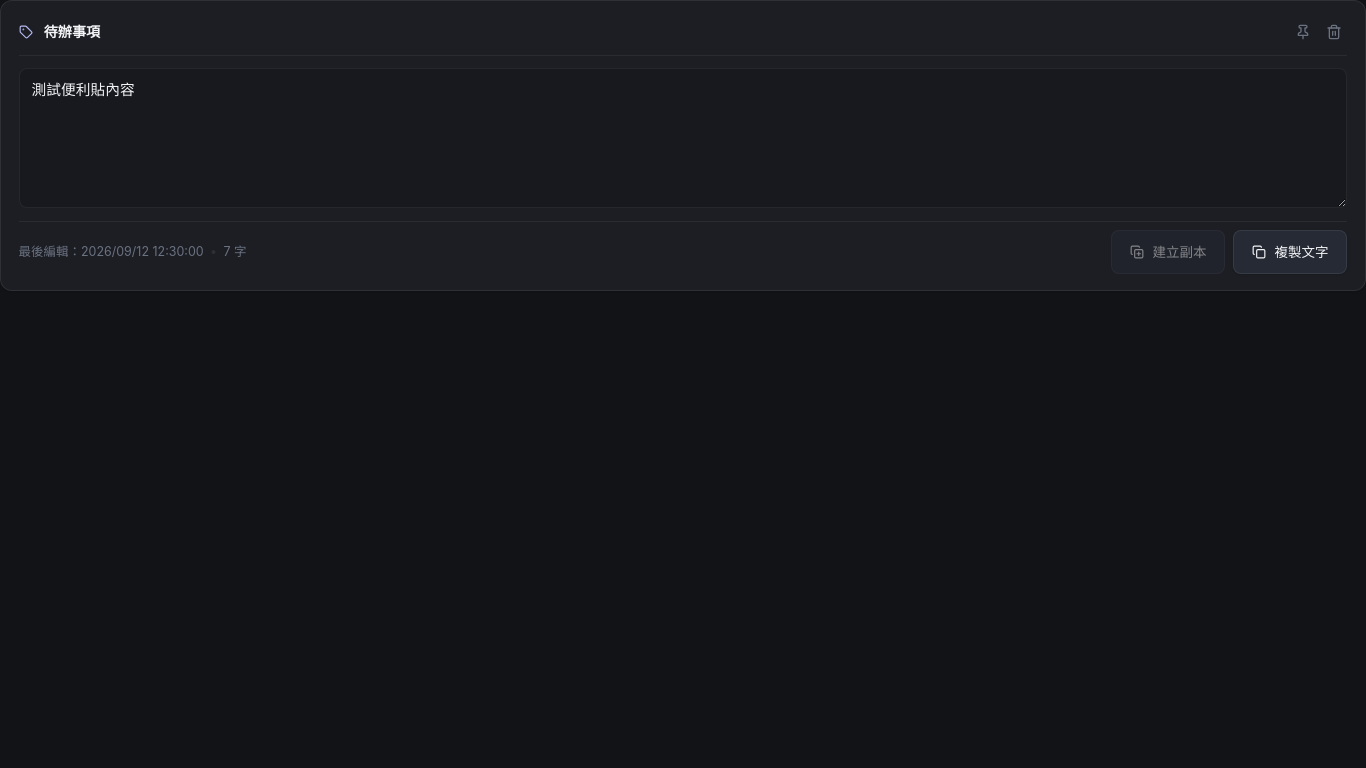
Test: StickyNoteCard › reconciles an ambiguous deletion without claiming success
Click the button named "刪除便利貼".
click(1334, 32)  # box top-left (1320, 18), bottom-right (1347, 45)
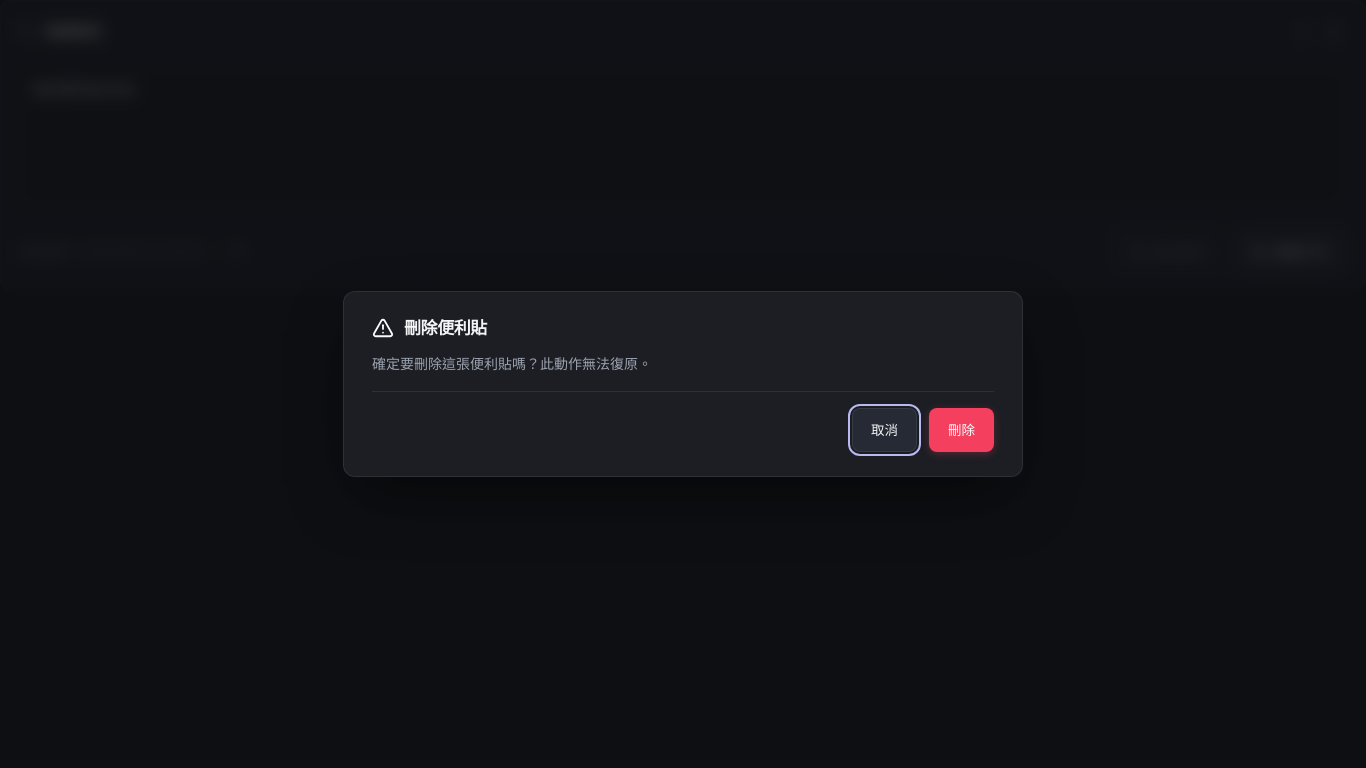
Click the button "刪除".
click(962, 430)  # box top-left (929, 408), bottom-right (994, 452)
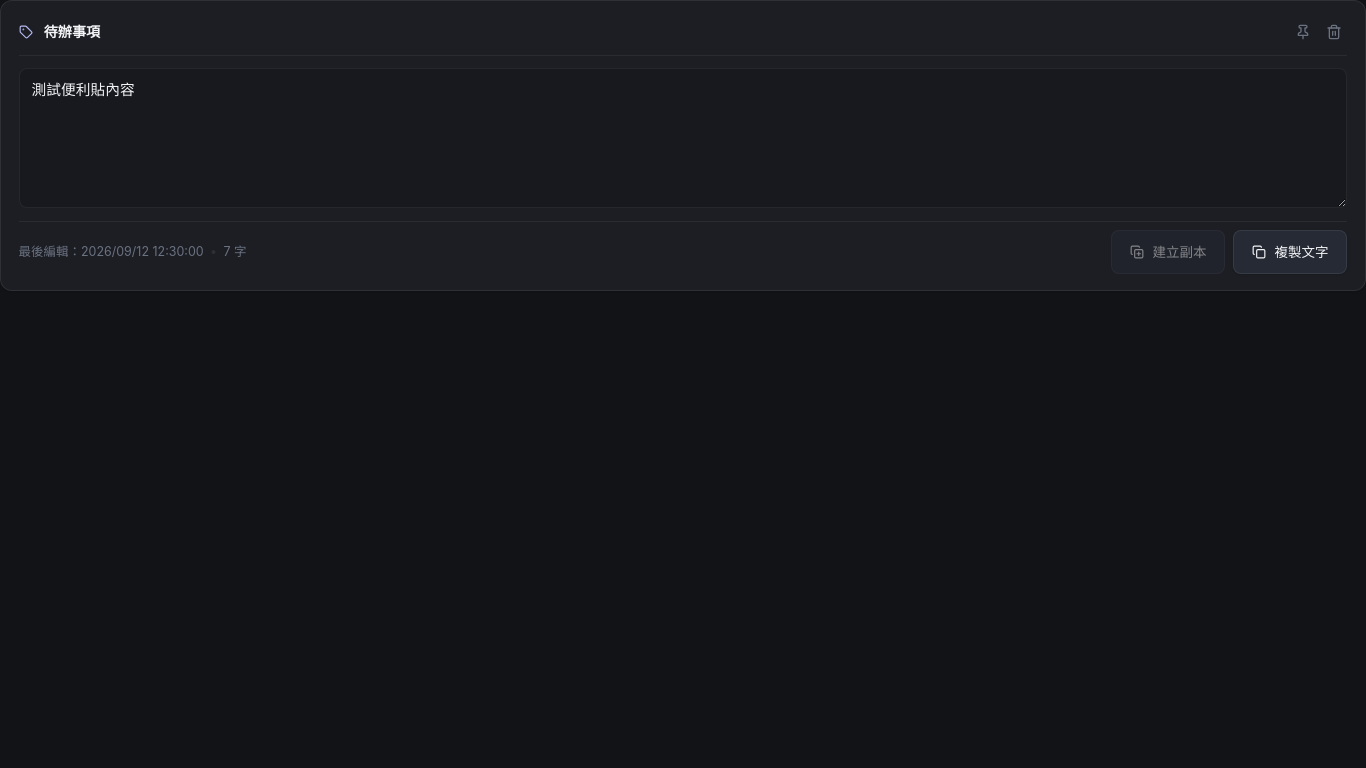
Expected: the text "確定要刪除這張便利貼嗎？此動作無法復原。" is gone
